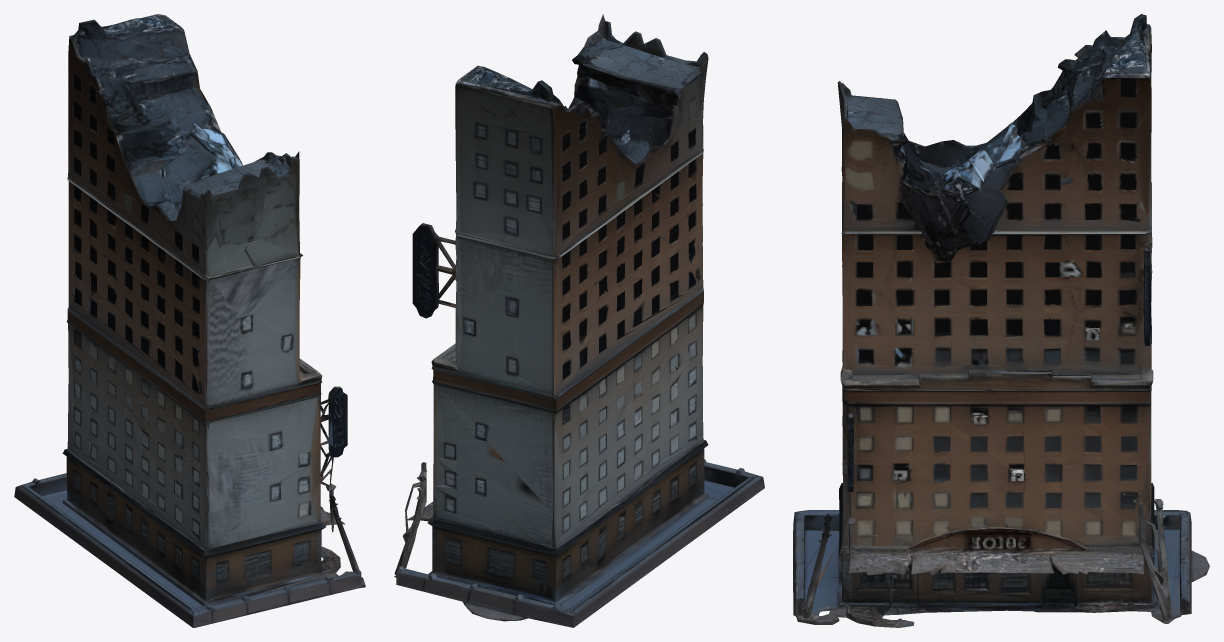
3 renders of one model, left to right at view 1: azimuth 30°, elevation 25°; view 2: azimuth 150°, elevation 25°; view 3: azimuth 270°, elevation 25°, orthographic. The views are drawn at different scales.
Visible parts, largest first — view 1: node_0.027; view 2: node_0.027; view 3: node_0.027.
Part boxes in pixels (x1,y1,x2,y2): node_0.027: [14, 14, 365, 627]; node_0.027: [394, 14, 764, 627]; node_0.027: [793, 14, 1209, 627].
Bounding box in the file's own units: 2.56 × 6.36 × 4.46.
1 material, 1 textured.
